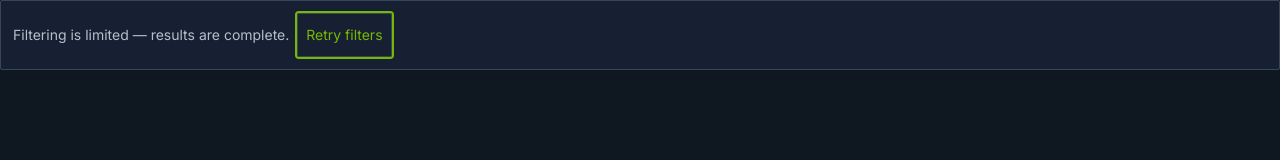
Test case: FacetsNotice › restores focus to the status region if the retry button had focus when it recovers
Step 1. Click the button "Retry filters" → (344, 35), box [297,13,392,57]
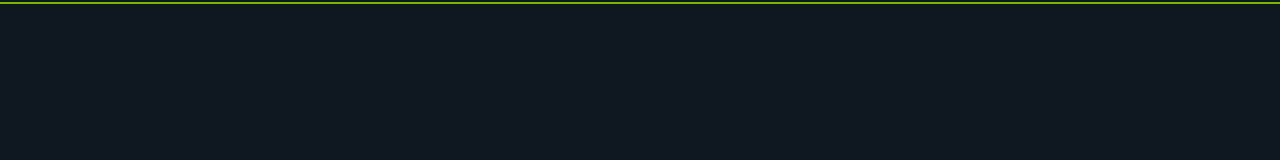
Result: the button "Retry" is gone
